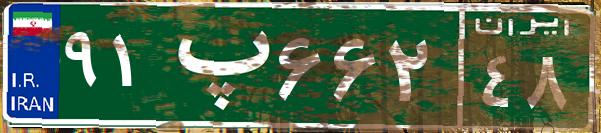1: (110, 28, 158, 105)
2: (385, 28, 445, 110)
4: (475, 38, 525, 113)
6: (273, 28, 330, 110), (330, 28, 385, 110)
8: (525, 38, 570, 115)
9: (57, 26, 110, 107)
پ: (158, 15, 273, 115)
